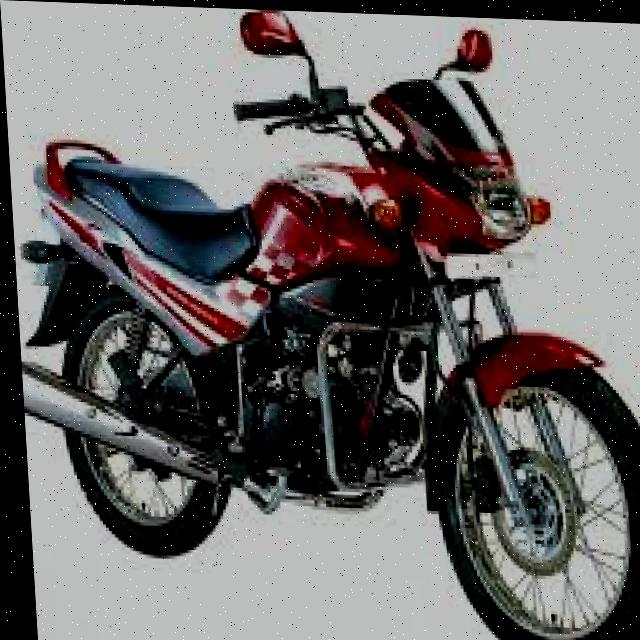bike: (1, 13, 640, 640)
